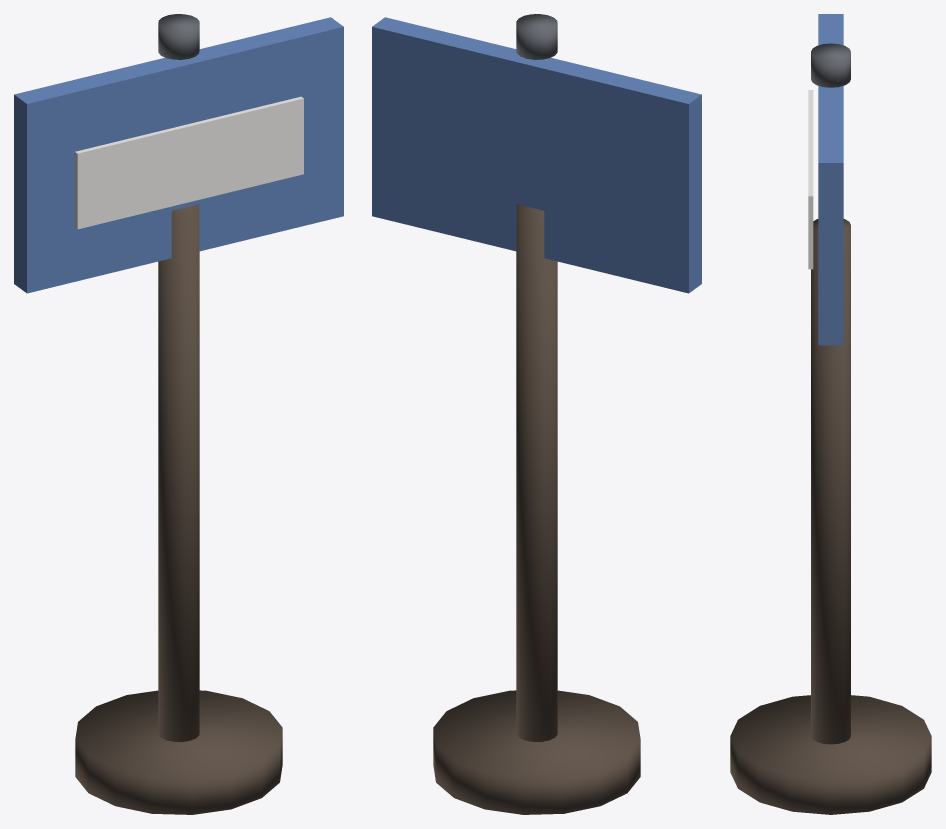
The model's file is prop_tate_fuda_junbi.glb.
3 views of the same model, side by side, from view 1: azimuth 30°, elevation 25°; view 2: azimuth 150°, elevation 25°; view 3: azimuth 270°, elevation 25° (orthographic). The views are drawn at different scales.
Parts seen in each view (by area): view 1: tate_fuda_junbi; view 2: tate_fuda_junbi; view 3: tate_fuda_junbi.
Boxes of the visible parts, x1,y1,x2,y2 form: tate_fuda_junbi: (14, 14, 343, 814); tate_fuda_junbi: (372, 14, 701, 814); tate_fuda_junbi: (730, 14, 931, 814).
Bounding box in the file's own units: 0.7 × 1.58 × 0.4.
